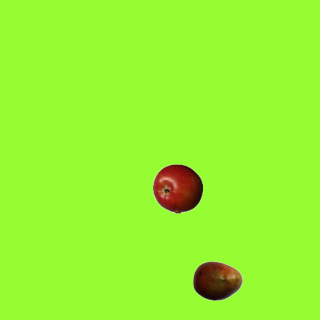Apple Braeburn: (152, 163, 202, 213)
Mango Red: (192, 255, 242, 305)
